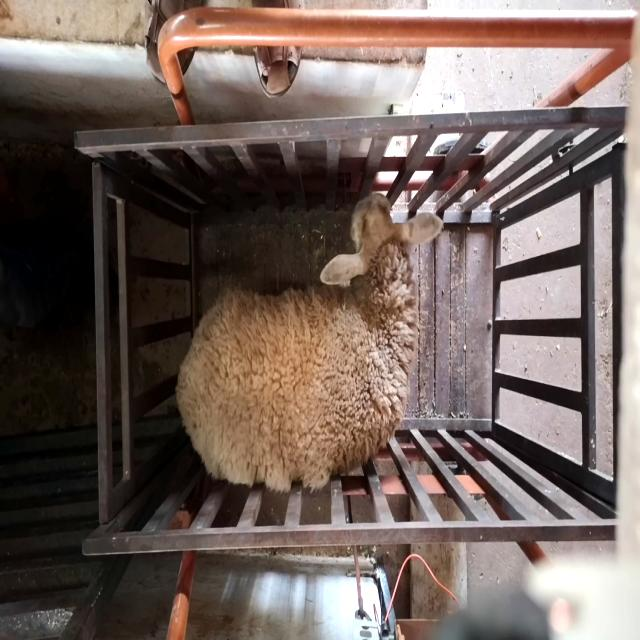sheep: (175, 194, 445, 493)
